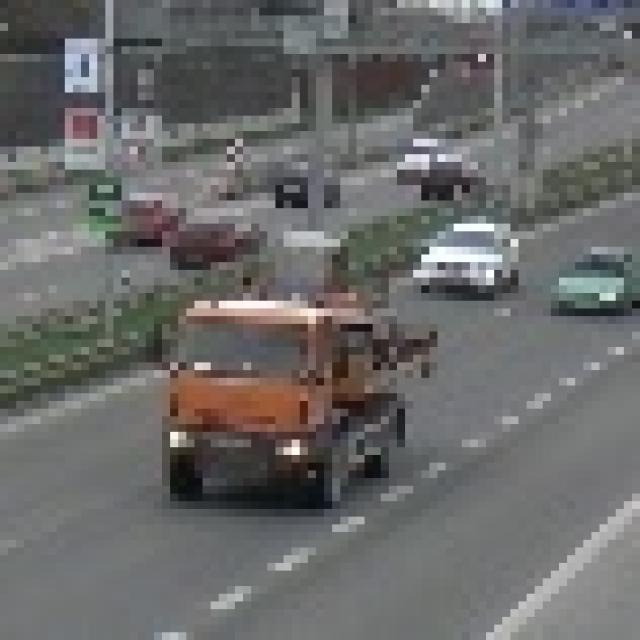truck: (146, 285, 421, 509)
